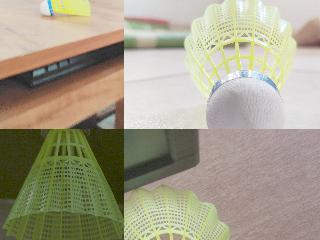shuttlecock: (183, 0, 298, 128), (2, 129, 123, 239), (124, 185, 236, 239), (39, 0, 92, 18)
